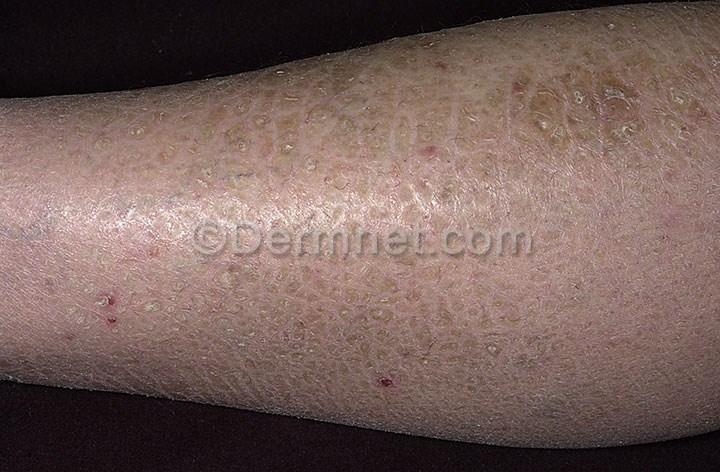liquenificacion 1: (0, 5, 716, 472)
xerosis 3: (0, 4, 719, 472)
